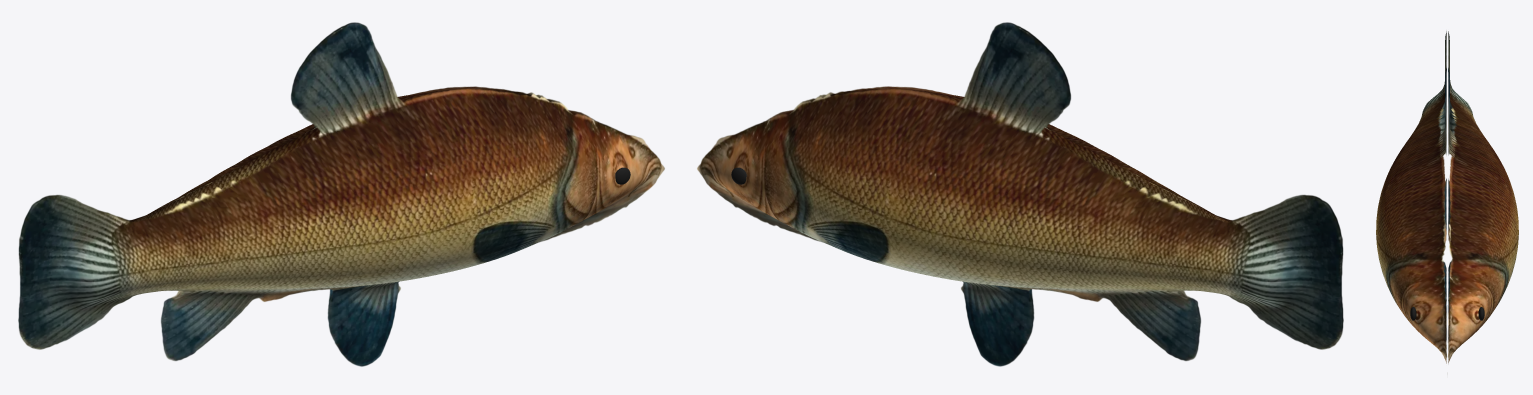
The model's file is tanche.glb.
The picture shows the model from 3 angles, left to right: view 1: azimuth 30°, elevation 25°; view 2: azimuth 150°, elevation 25°; view 3: azimuth 270°, elevation 25°; orthographic projection. The views are drawn at different scales.
Visible parts, largest first — view 1: tanche; view 2: tanche; view 3: tanche.
Boxes of the visible parts, x1,y1,x2,y2 form: tanche: (18, 22, 664, 366); tanche: (697, 22, 1343, 366); tanche: (1376, 31, 1518, 373).
Size of the model in its own units: 1 by 0.5161 by 0.2473.
2 materials, 1 textured.
